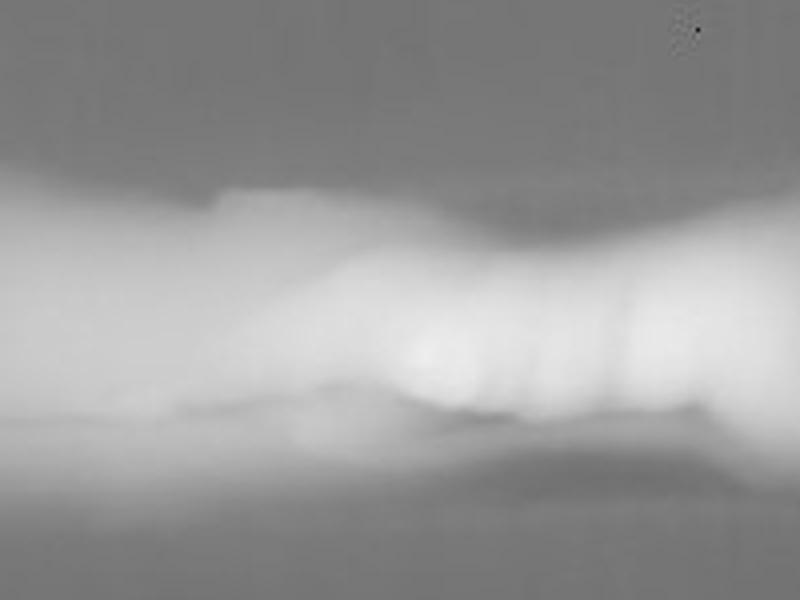defect: (690, 19, 707, 42)
